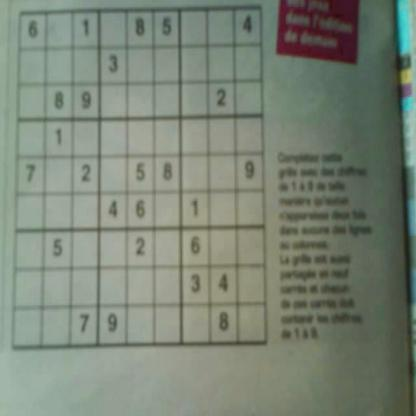sudoku: (9, 1, 271, 356)
